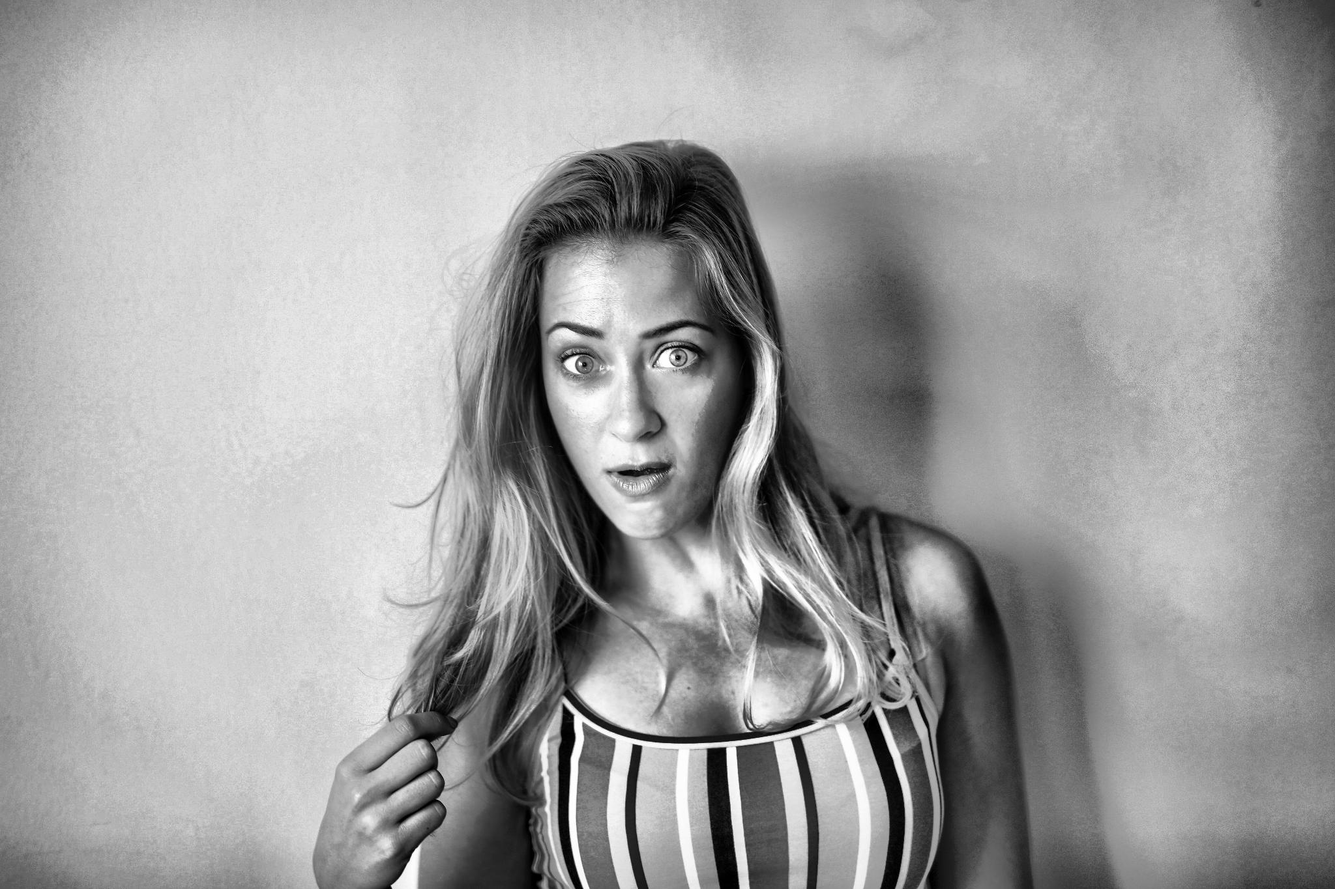surprised: (530, 246, 777, 563)
